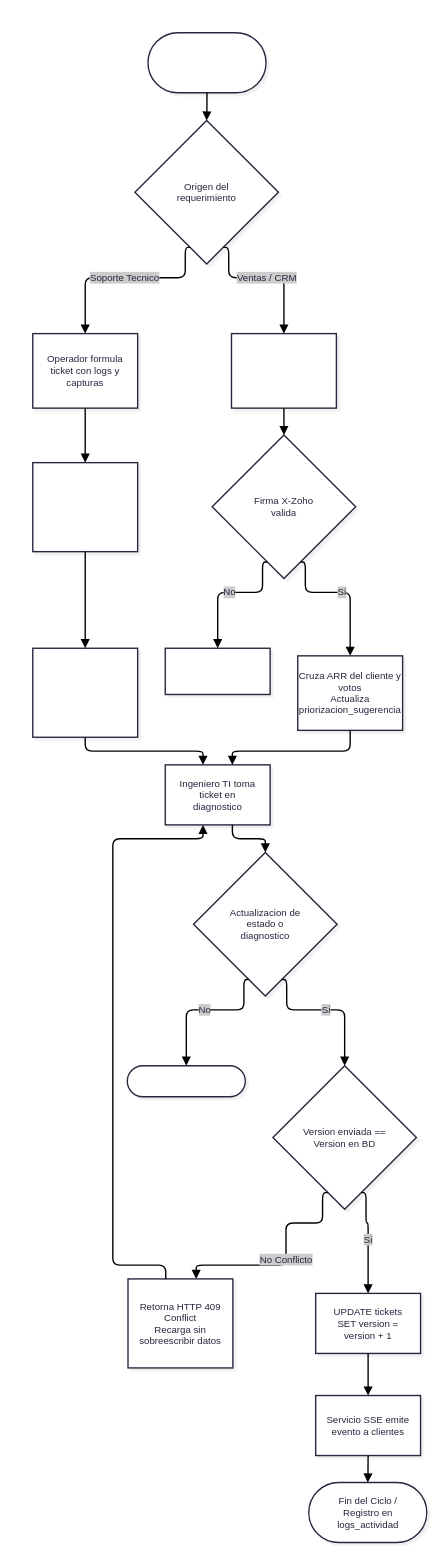
Some shapes in this 442 by 1557 pixel diagram are drawn without their labels. The shapes that lost their labels are listed below. From the top down, each one's centre as x and y in pixels, then its label:
At (x=208, y=64): "Inicio: Deteccion de Falla o Solicitud".
At (x=284, y=372): "Zoho despacha Webhook con firma criptografica".
At (x=86, y=508): "Backend genera URL prefirmada S3 Cliente sube archivo directo a S3".
At (x=218, y=672): "Rechazo 401 Unauthorized".
At (x=86, y=693): "Inserta registro en tickets Estado: NUEVO, Version: 1".
At (x=187, y=1082): "Fin de Consulta".
